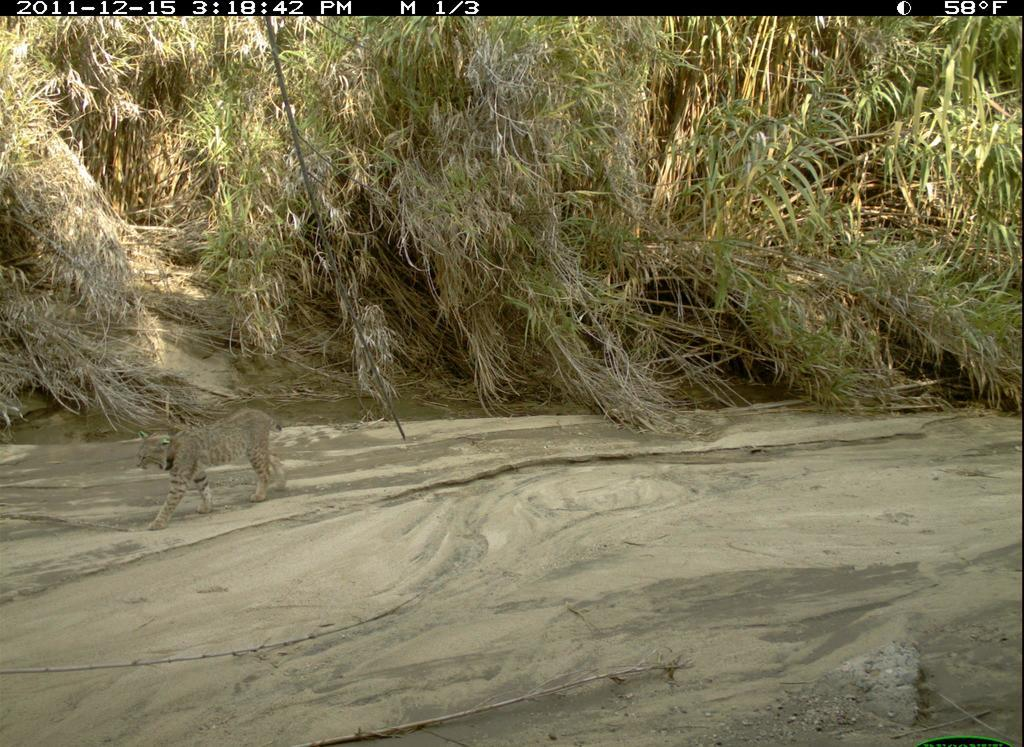bobcat: (130, 405, 297, 536)
